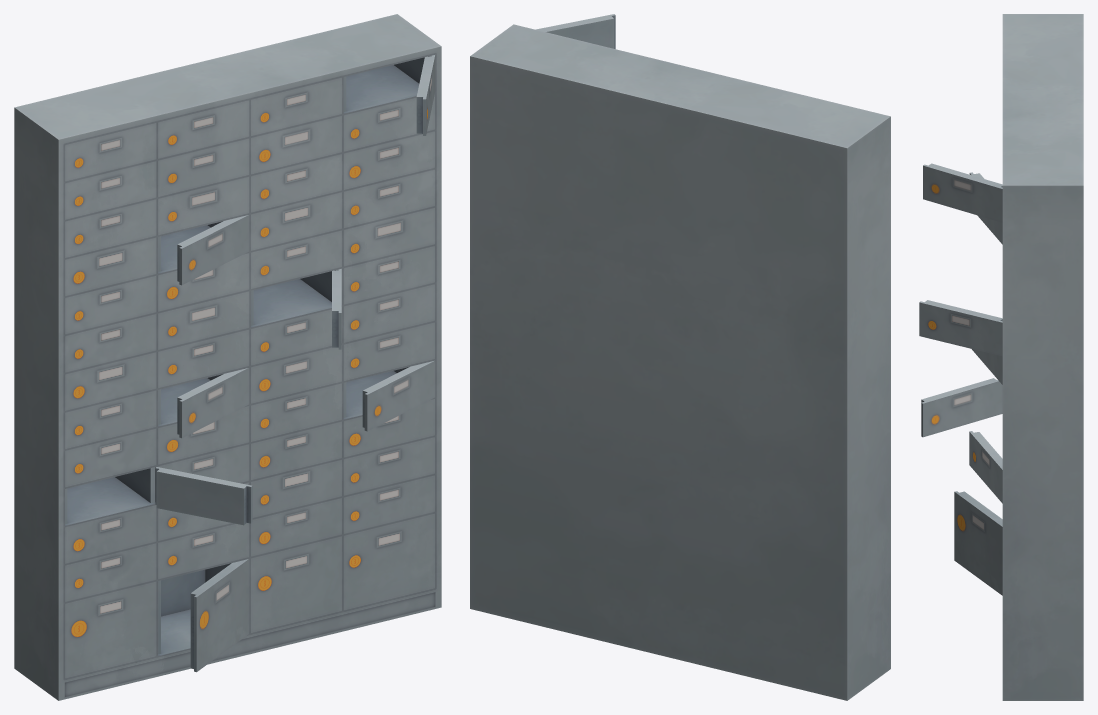
File: BankDepositBoxes01_3.FBX
3 views of the same model, side by side, from view 1: azimuth 30°, elevation 25°; view 2: azimuth 150°, elevation 25°; view 3: azimuth 270°, elevation 25° (orthographic). The views are drawn at different scales.
Parts seen in each view (by area): view 1: BankDepositBoxes01_3; view 2: BankDepositBoxes01_3; view 3: BankDepositBoxes01_3.
Part boxes in pixels (<box>): BankDepositBoxes01_3: <box>14,14,441,700</box>; BankDepositBoxes01_3: <box>470,14,890,700</box>; BankDepositBoxes01_3: <box>919,14,1083,700</box>.
Size of what is drawn, in the model's own units: 2 by 2.8 by 0.8103.
